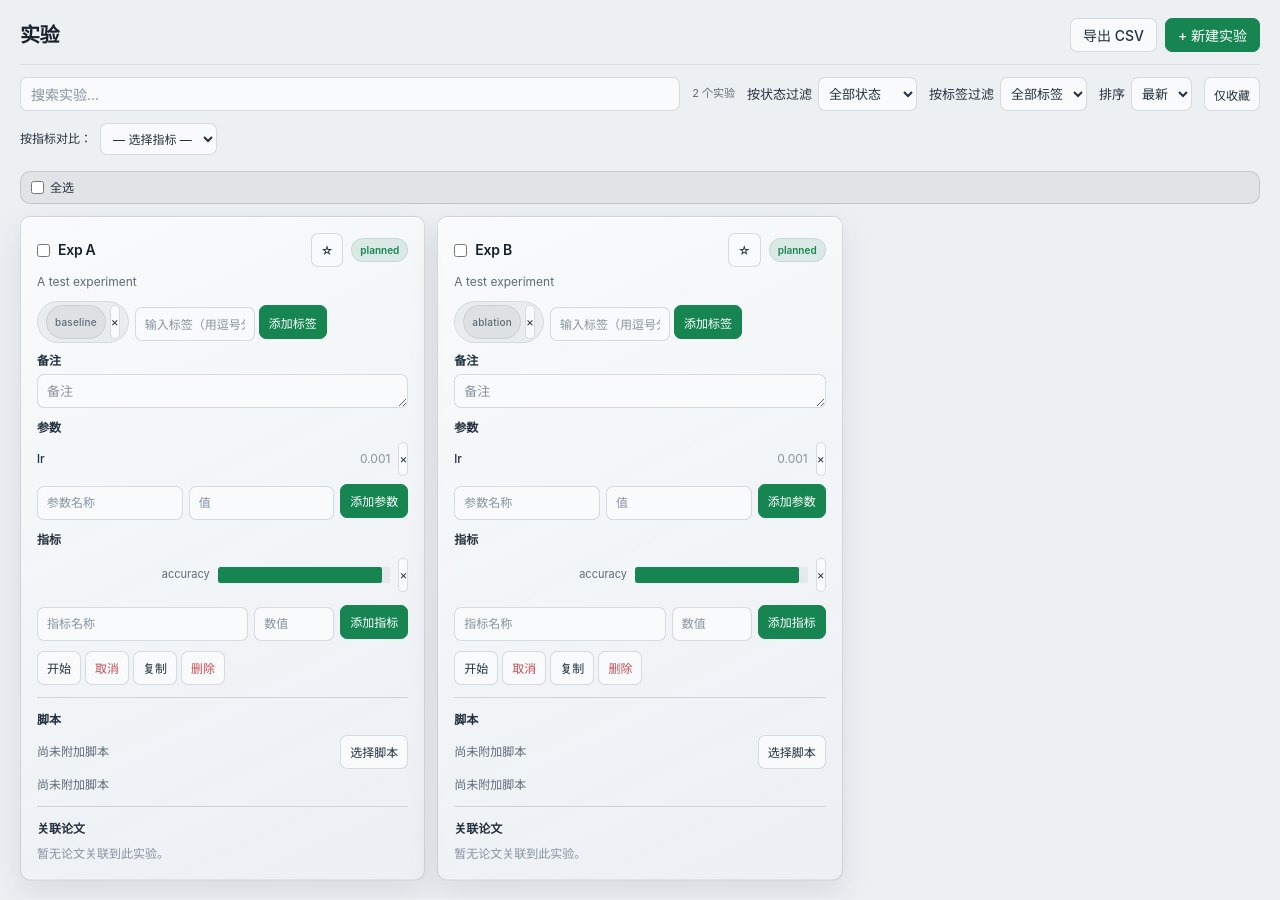
Test case: ExperimentsPage › should filter experiments by clicking a tag in the experiment card
Click the button "baseline".
click(76, 322)  # box [46, 305, 106, 339]
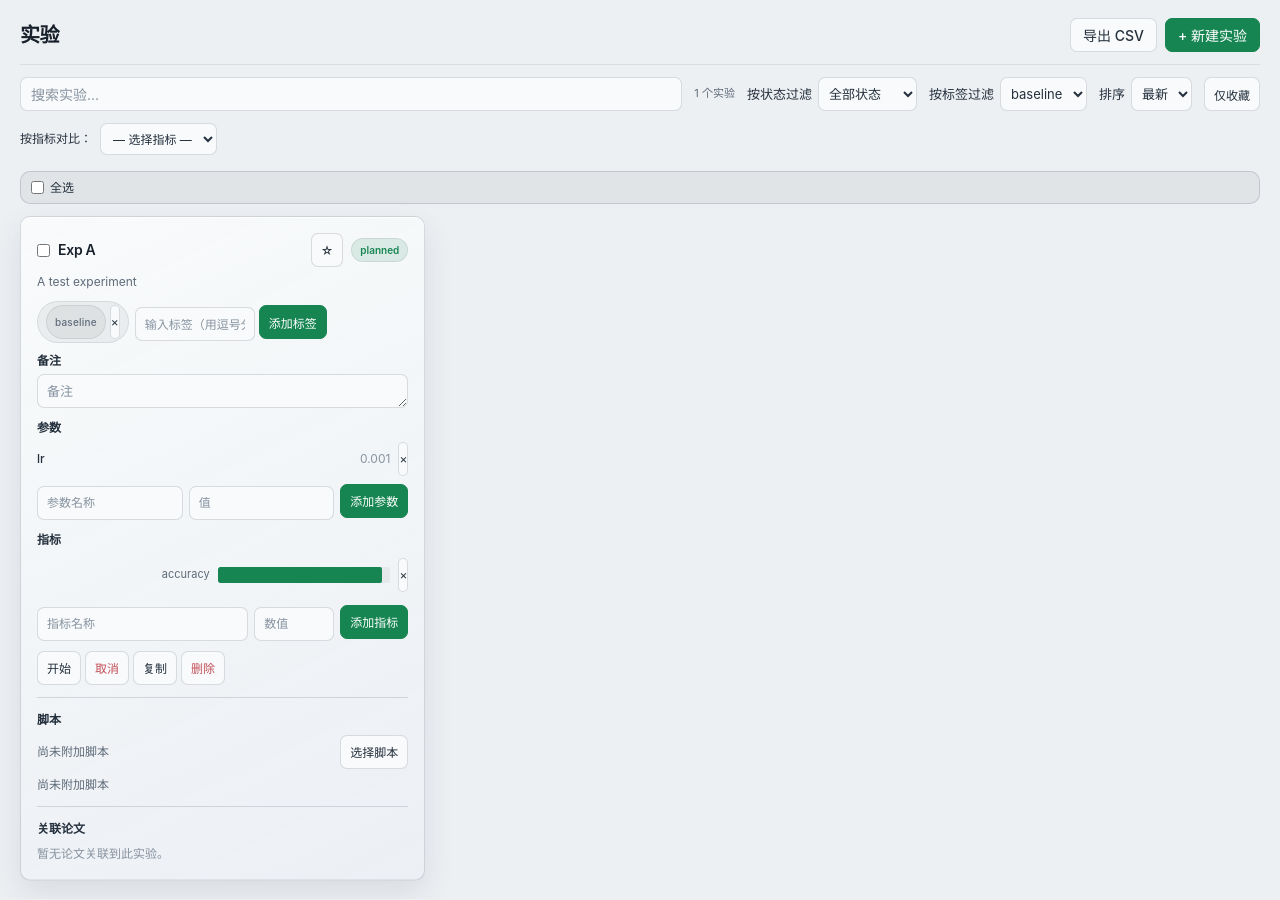
Expected: the heading "Exp A" is shown, [58, 241, 96, 258]
Expected: the heading "Exp B" is gone
